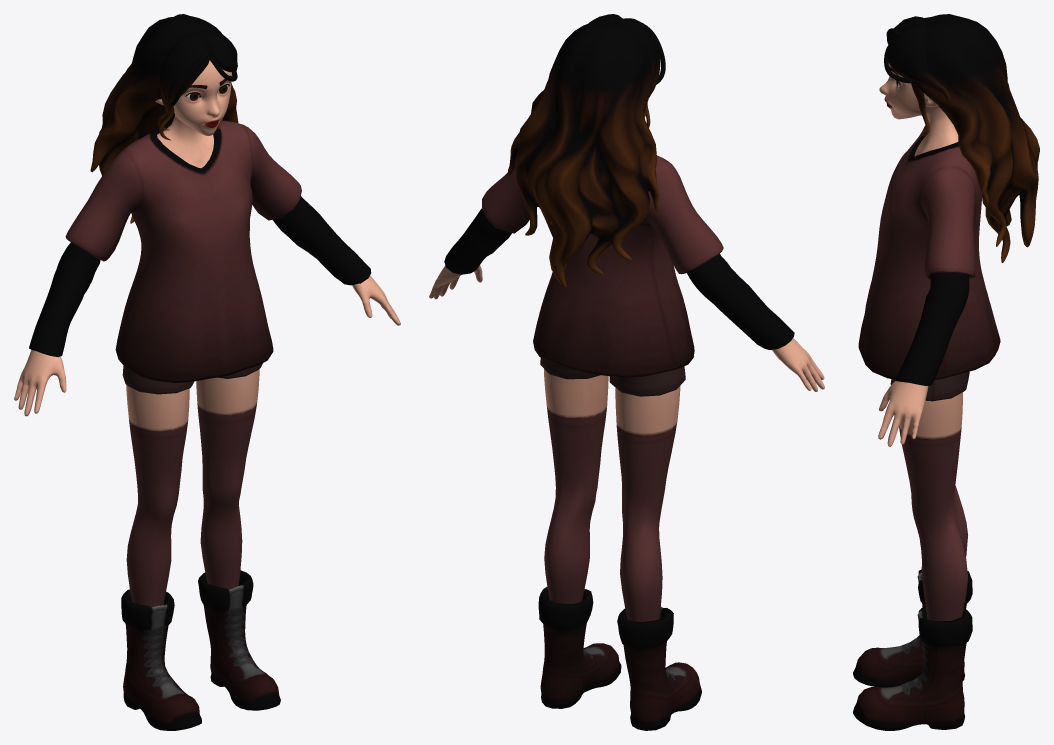
The model's file is Clarissa_Mesh.obj.
3 renders of one model, left to right at view 1: azimuth 30°, elevation 25°; view 2: azimuth 150°, elevation 25°; view 3: azimuth 270°, elevation 25°, orthographic. The views are drawn at different scales.
Visible parts, largest first — view 1: Clarissa_Mesh_0; view 2: Clarissa_Mesh_0; view 3: Clarissa_Mesh_0.
Boxes of the visible parts, box(x1,y1,x2,y2) form: Clarissa_Mesh_0: box(14, 14, 400, 730); Clarissa_Mesh_0: box(429, 14, 824, 730); Clarissa_Mesh_0: box(853, 14, 1039, 730).
Size of the model in its own units: 1.06 by 1.8 by 0.4476.
Materials: 1 (1 with a texture image).
